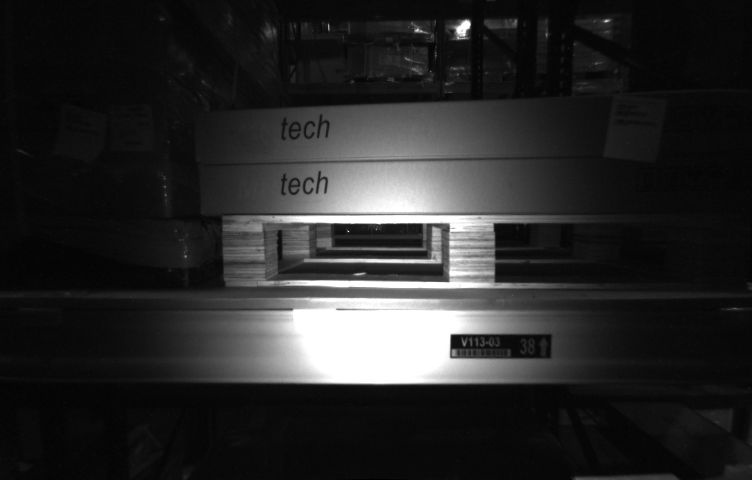True Barcode: (110, 105, 154, 156)
